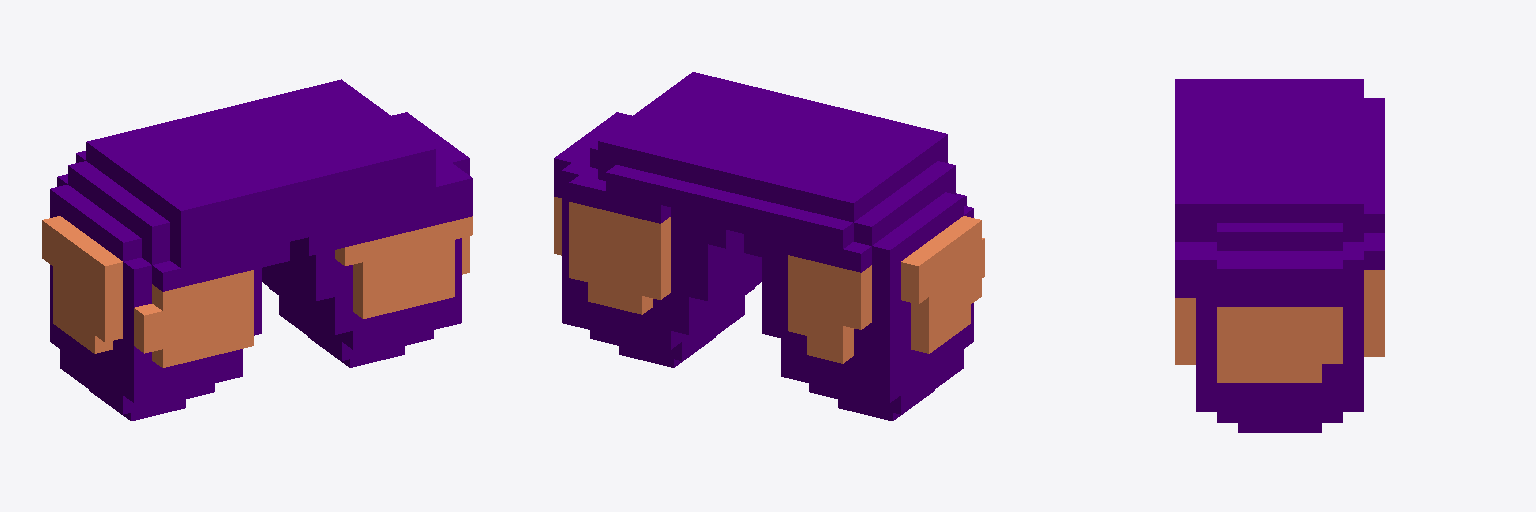
3 views of the same model, side by side, from view 1: azimuth 30°, elevation 25°; view 2: azimuth 150°, elevation 25°; view 3: azimuth 270°, elevation 25° (orthographic).
Visible parts, largest first — view 1: object 1; view 2: object 1; view 3: object 1.
Boxes of the visible parts, x1=… form: object 1: x1=42, y1=79, x2=472, y2=420; object 1: x1=554, y1=72, x2=984, y2=420; object 1: x1=1175, y1=79, x2=1384, y2=432.
Bounding box in the file's own units: 2 × 1.2 × 1.
Materials: 1 (1 with a texture image).